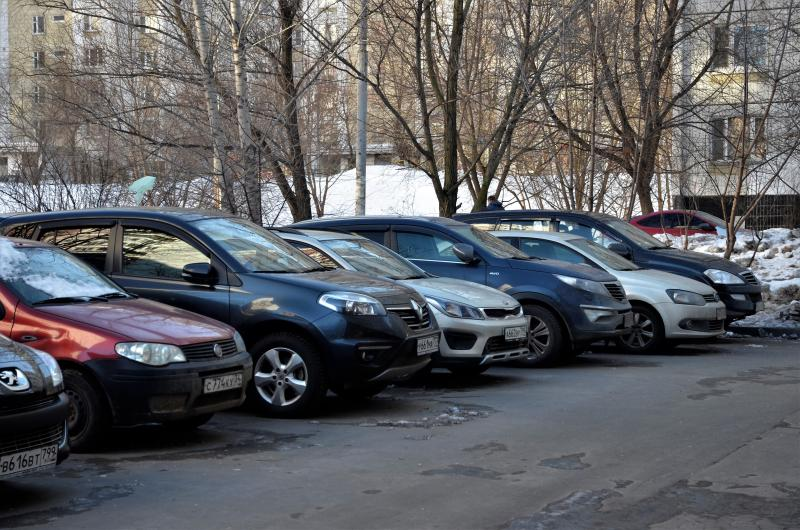Car: (0, 207, 440, 416), (0, 236, 252, 451), (292, 215, 632, 364), (269, 228, 530, 375), (455, 210, 762, 324), (490, 231, 725, 353), (0, 332, 69, 480), (628, 210, 751, 236)
